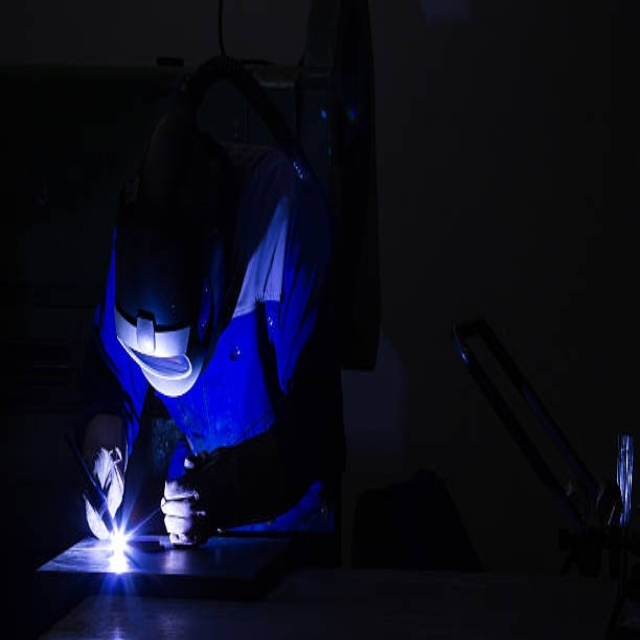Guantes: (80, 415, 127, 543), (161, 463, 215, 550)
